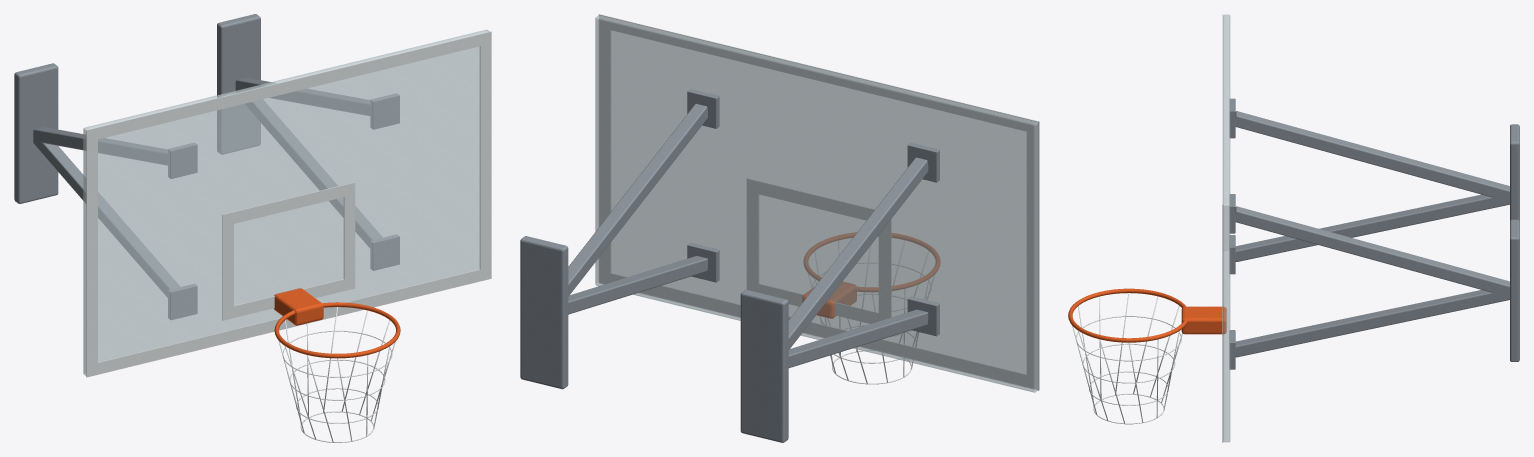
File: wall_basketball_hoop.glb
3 views of the same model, side by side, from view 1: azimuth 30°, elevation 25°; view 2: azimuth 150°, elevation 25°; view 3: azimuth 270°, elevation 25° (orthographic). The views are drawn at different scales.
Visible parts, largest first — view 1: Backboard, Backboard border, Wall fixing plate, Backboard target, Wall fixing plate.001, Wall hoop bracing arm, Wall hoop bracing arm.002, Wall hoop bracing arm.001, Wall hoop bracing arm.003, Basketball ring bracket, Basketball ring, Backboard rear mounting pad.003 (+3 smaller); view 2: Backboard, Backboard border, Wall fixing plate, Wall fixing plate.001, Backboard target, Wall hoop bracing arm.001, Wall hoop bracing arm.003, Wall hoop bracing arm, Wall hoop bracing arm.002, Basketball ring, Backboard rear mounting pad.001, Backboard rear mounting pad.003 (+3 smaller); view 3: Wall hoop bracing arm.003, Wall hoop bracing arm.001, Wall hoop bracing arm.002, Wall hoop bracing arm, Backboard, Wall fixing plate.001, Basketball ring, Basketball ring bracket, Wall fixing plate, Backboard border.
Part boxes in pixels (<box>): Backboard: <box>83,29,489,375</box>; Backboard border: <box>86,31,491,377</box>; Wall fixing plate: <box>14,63,58,203</box>; Backboard target: <box>222,182,355,320</box>; Wall fixing plate.001: <box>217,14,260,154</box>; Wall hoop bracing arm: <box>33,140,179,297</box>; Wall hoop bracing arm.002: <box>236,91,382,247</box>; Wall hoop bracing arm.001: <box>33,127,167,165</box>; Wall hoop bracing arm.003: <box>235,77,369,115</box>; Basketball ring bracket: <box>274,288,323,325</box>; Basketball ring: <box>274,302,400,358</box>; Backboard rear mounting pad.003: <box>370,93,399,129</box>; Backboard: <box>595,15,1038,392</box>; Backboard border: <box>598,14,1039,390</box>; Wall fixing plate: <box>740,290,788,442</box>; Wall fixing plate.001: <box>520,236,568,389</box>; Backboard target: <box>746,178,891,323</box>; Wall hoop bracing arm.001: <box>788,157,928,349</box>; Wall hoop bracing arm.003: <box>568,103,707,296</box>; Wall hoop bracing arm: <box>788,309,928,367</box>; Wall hoop bracing arm.002: <box>568,256,707,314</box>; Basketball ring: <box>803,232,940,291</box>; Backboard rear mounting pad.001: <box>907,143,939,182</box>; Backboard rear mounting pad.003: <box>687,89,719,128</box>; Wall hoop bracing arm.003: <box>1235,206,1509,293</box>; Wall hoop bracing arm.001: <box>1235,111,1509,197</box>; Wall hoop bracing arm.002: <box>1235,290,1509,357</box>; Wall hoop bracing arm: <box>1235,194,1509,261</box>; Backboard: <box>1223,14,1230,442</box>; Wall fixing plate.001: <box>1510,219,1519,361</box>; Basketball ring: <box>1068,288,1187,342</box>; Basketball ring bracket: <box>1181,306,1226,334</box>; Wall fixing plate: <box>1510,124,1519,221</box>; Backboard border: <box>1222,14,1223,442</box>.
Bounding box in the file's own units: 1.8 × 1.32 × 1.8.
Materials: 4 (4 with a texture image).
